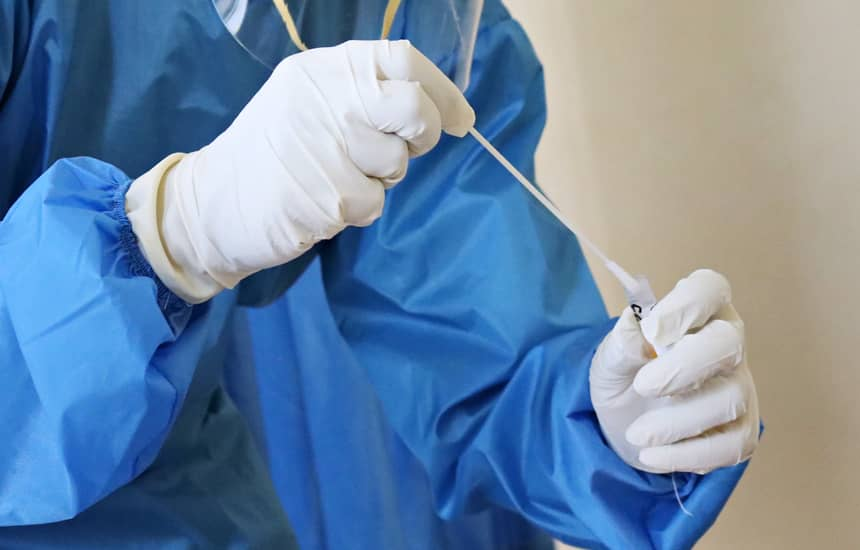glove: (180, 38, 477, 287), (586, 265, 763, 480)
